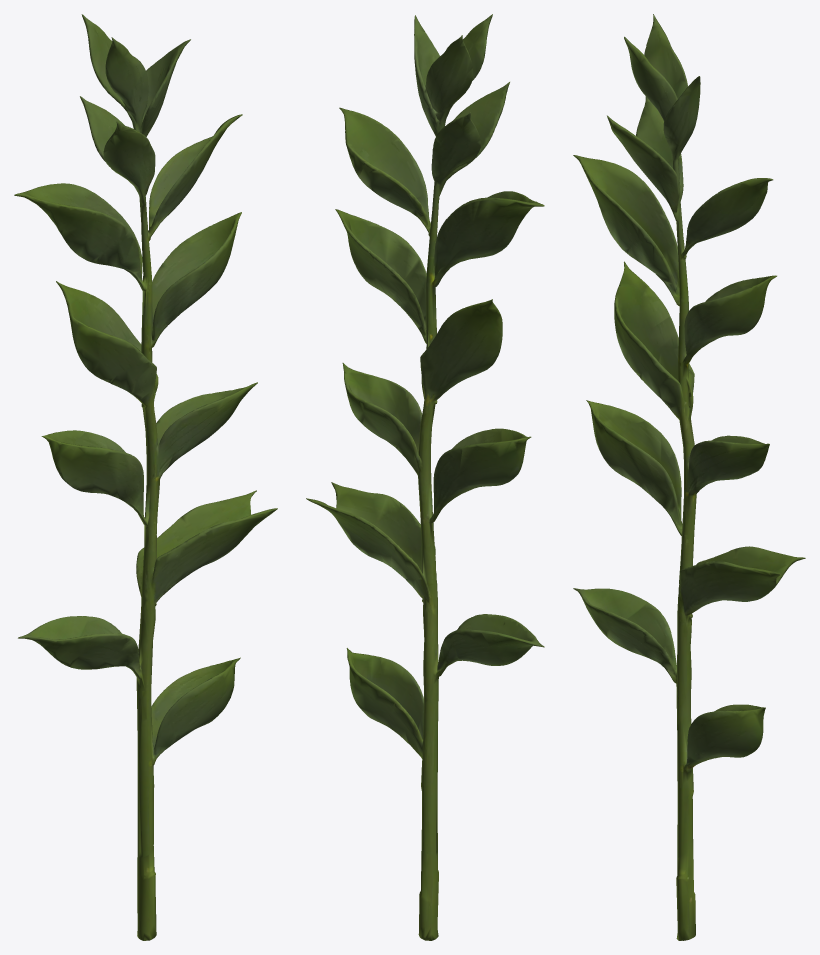
File: fl-green-ruscus.glb
The picture shows the model from 3 angles, left to right: view 1: azimuth 30°, elevation 25°; view 2: azimuth 150°, elevation 25°; view 3: azimuth 330°, elevation 25°; orthographic projection. The views are drawn at different scales.
Parts seen in each view (by area): view 1: node_0; view 2: node_0; view 3: node_0.
Boxes of the visible parts, x1,y1,x2,y2 form: node_0: (14,14,277,940); node_0: (306,14,544,940); node_0: (573,14,805,940).
Bounding box in the file's own units: 0.325 × 1.19 × 0.0975.
1 material, 1 textured.
